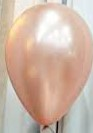Balloon: (4, 3, 93, 125)
